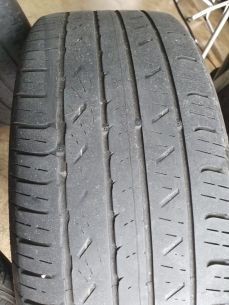bad_condition: (27, 23, 220, 292)
